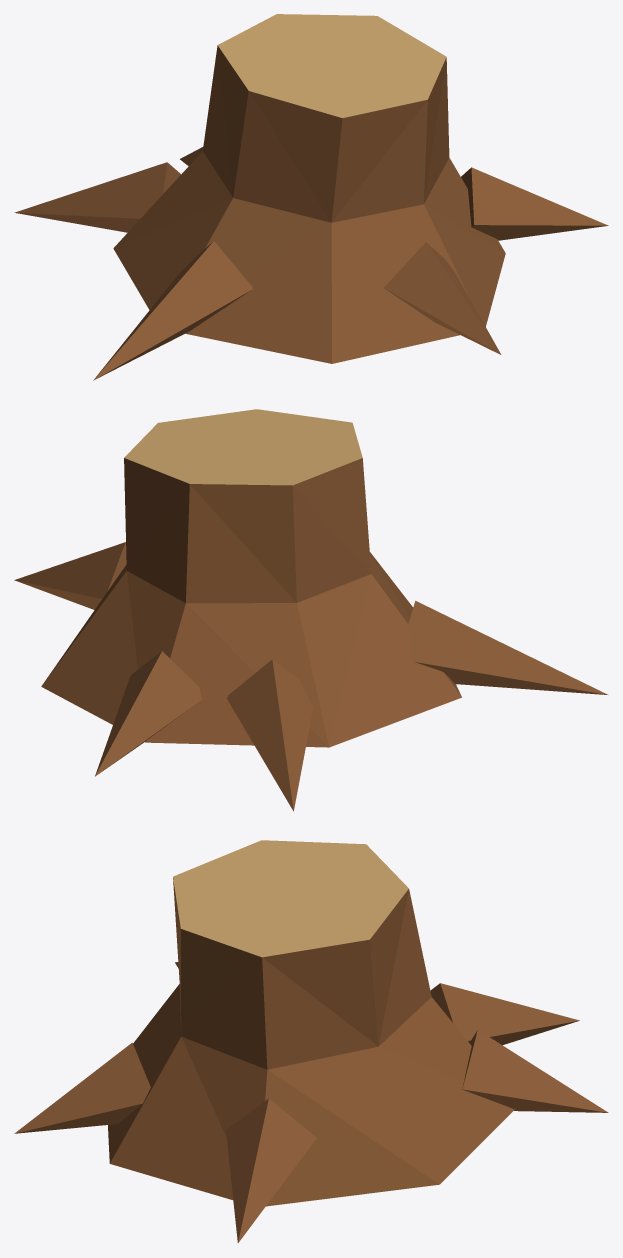
File: HS_LP_Stump_01.fbx
3 views of the same model, one above another, from view 1: azimuth 30°, elevation 25°; view 2: azimuth 150°, elevation 25°; view 3: azimuth 270°, elevation 25° (orthographic). The views are drawn at different scales.
Visible parts, largest first — view 1: HS_LP_Stump_01; view 2: HS_LP_Stump_01; view 3: HS_LP_Stump_01.
Boxes of the visible parts, box(x1,y1,x2,y2) form: HS_LP_Stump_01: box(14, 14, 608, 380); HS_LP_Stump_01: box(14, 409, 607, 811); HS_LP_Stump_01: box(14, 840, 608, 1242).
Bounding box in the file's own units: 131 × 53.14 × 117.
